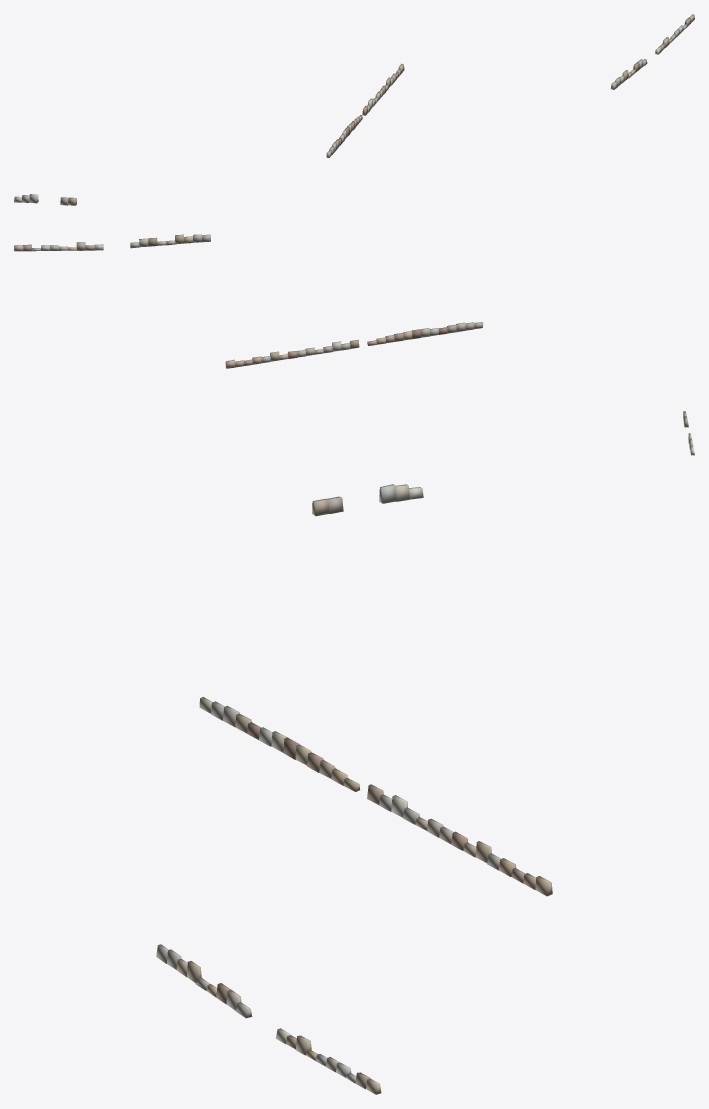
File: farm_12_23_far.glb
3 renders of one model, top to bottom at view 1: azimuth 30°, elevation 25°; view 2: azimuth 150°, elevation 25°; view 3: azimuth 270°, elevation 25°, orthographic. The views are drawn at different scales.
Parts seen in each view (by area): view 1: geometry_0; view 2: geometry_0; view 3: geometry_0.
Part boxes in pixels (bbox=[...]): geometry_0: bbox=[14, 14, 694, 205]; geometry_0: bbox=[14, 234, 694, 455]; geometry_0: bbox=[156, 484, 552, 1094].
Bounding box in the file's own units: 136 × 7.11 × 34.91.
